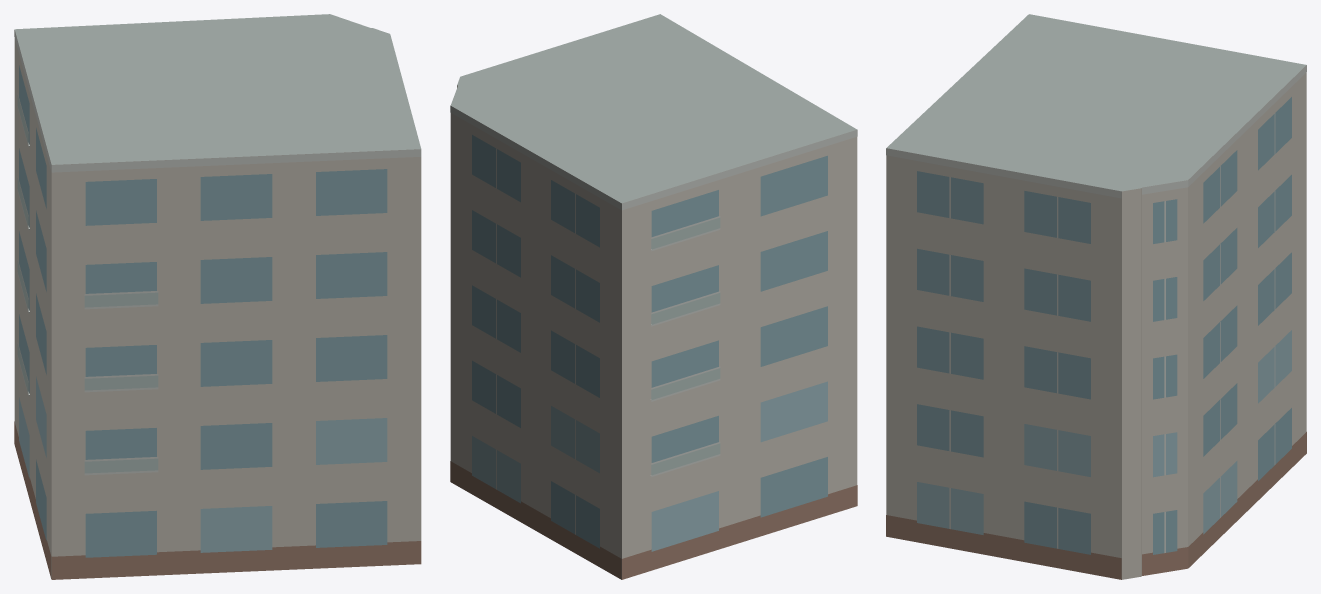
Rendered from survey-upis-32903848.glb.
3 renders of one model, left to right at view 1: azimuth 30°, elevation 25°; view 2: azimuth 150°, elevation 25°; view 3: azimuth 270°, elevation 25°, orthographic. The views are drawn at different scales.
Visible parts, largest first — view 1: survey-upis-32903848.tmp; view 2: survey-upis-32903848.tmp; view 3: survey-upis-32903848.tmp.
Boxes of the visible parts, box(x1,y1,x2,y2) form: survey-upis-32903848.tmp: box(14, 14, 421, 579); survey-upis-32903848.tmp: box(450, 14, 857, 579); survey-upis-32903848.tmp: box(886, 14, 1306, 579).
Size of the model in its own units: 12.94 by 13.2 by 12.96.
